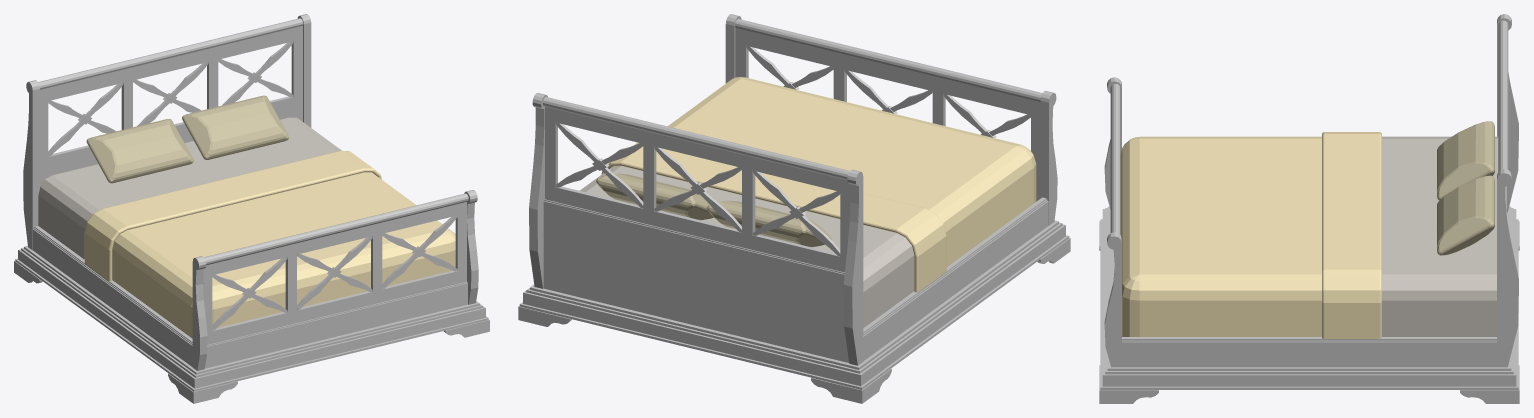
3 views of the same model, side by side, from view 1: azimuth 30°, elevation 25°; view 2: azimuth 150°, elevation 25°; view 3: azimuth 270°, elevation 25° (orthographic). The views are drawn at different scales.
Size of the model in its own units: 80.4 by 50 by 84.4.
